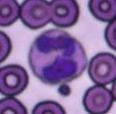N: (29, 29, 86, 83)
